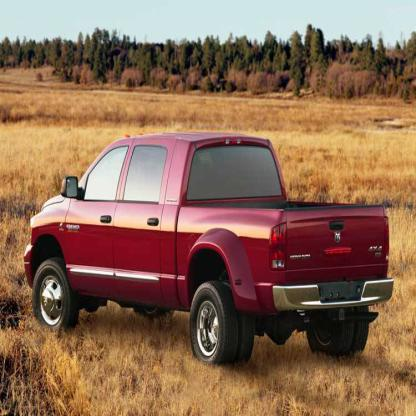Vehicle: (22, 128, 397, 370)
